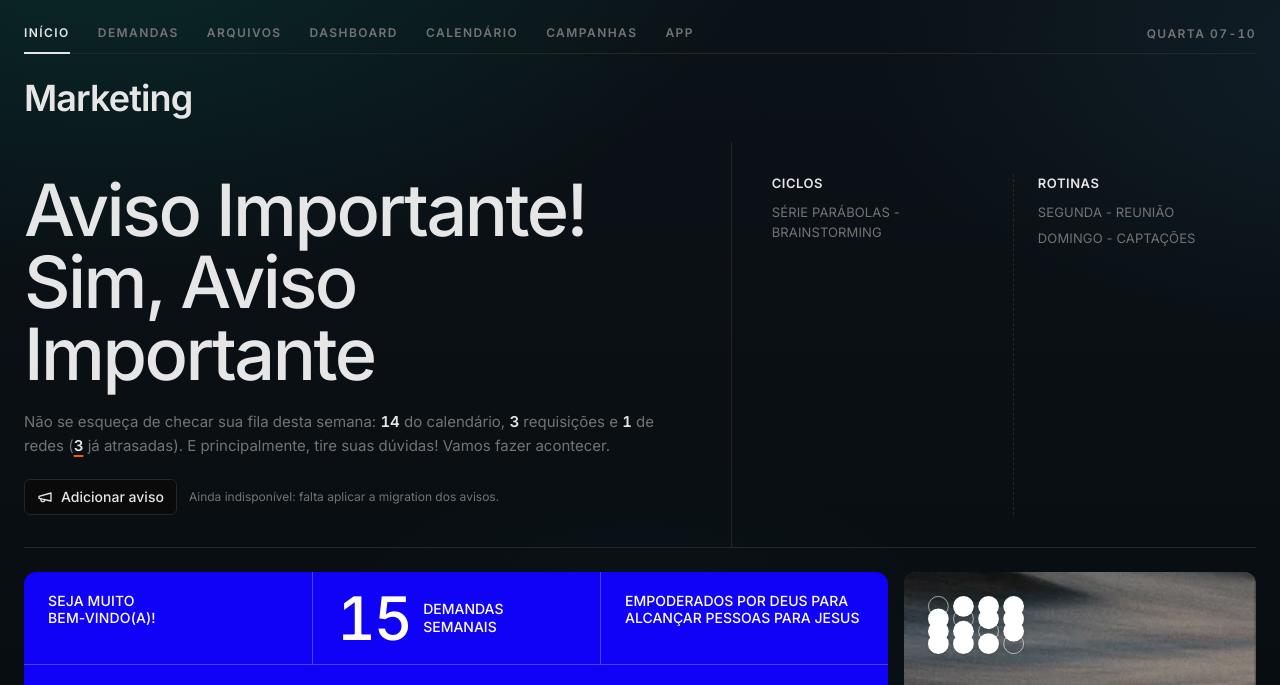
Test: Início · avisos com período do líder (02/10) › sem a migration: o líder vê o motivo em vez de um formulário que falharia
This screenshot has width=1280, height=685.
Expected: the text "Ainda indisponível: falta aplicar a migration dos avisos." is shown, x1=189 y1=489 x2=499 y2=505
Click the button "Adicionar aviso" at (100, 497), box x1=24 y1=479 x2=177 y2=515
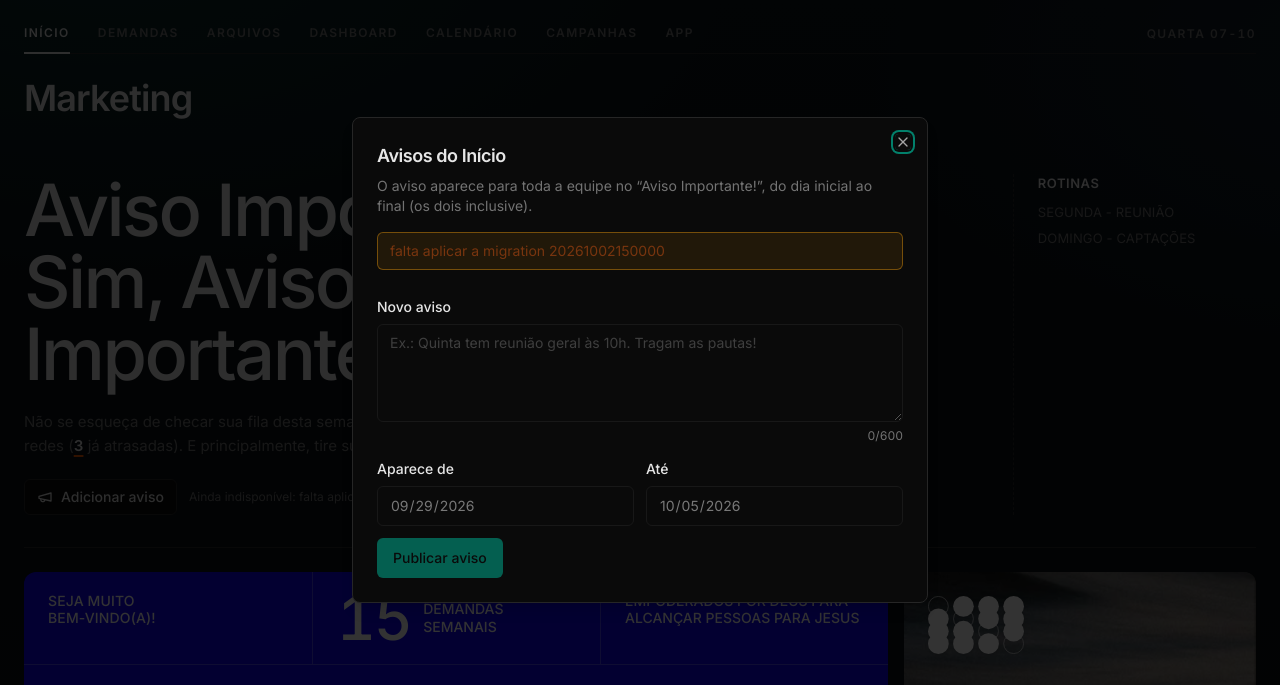
Result: the text "falta aplicar a migration 20261002150000" is shown at x1=377 y1=232 x2=903 y2=270
Result: the text box labelled "Novo aviso" is disabled at x1=377 y1=324 x2=903 y2=422
